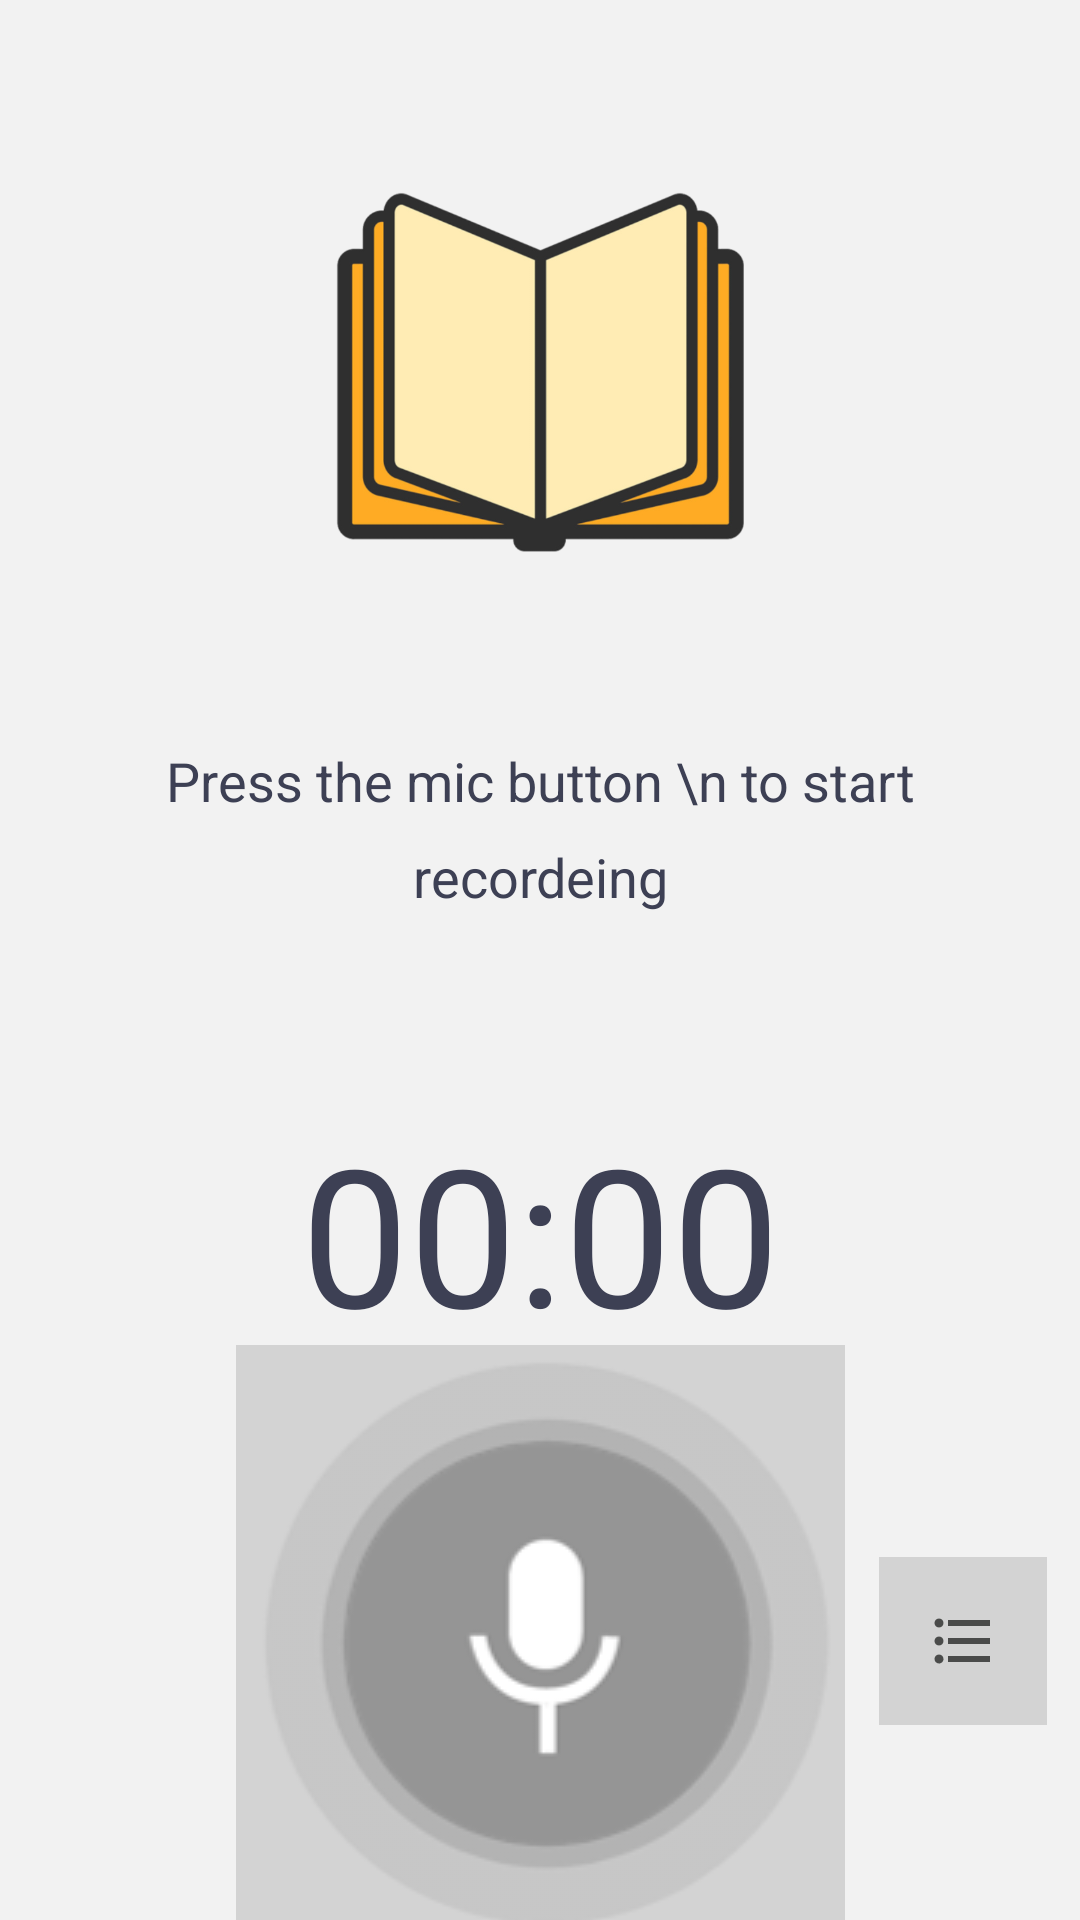

Icon bounding boxes for this 1080px x 1920px phone screenshot, format (x1, y1, x2, y2):
recorder list: (879, 1557, 1047, 1725)
